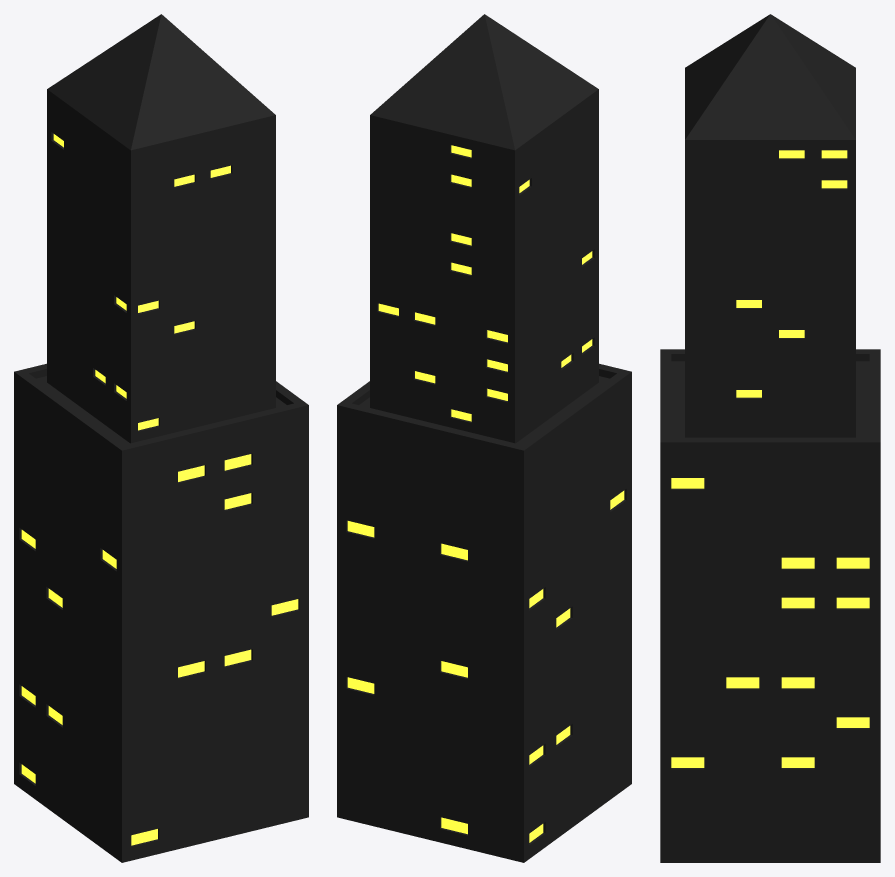
File: testBuilding.glb
The picture shows the model from 3 angles, left to right: view 1: azimuth 30°, elevation 25°; view 2: azimuth 150°, elevation 25°; view 3: azimuth 270°, elevation 25°; orthographic projection. The views are drawn at different scales.
Parts seen in each view (by area): view 1: Cube; view 2: Cube; view 3: Cube.
Boxes of the visible parts, x1,y1,x2,y2 form: Cube: (14, 14, 308, 862); Cube: (337, 14, 631, 862); Cube: (660, 14, 880, 862).
Size of the model in its own units: 4 by 16.09 by 4.
